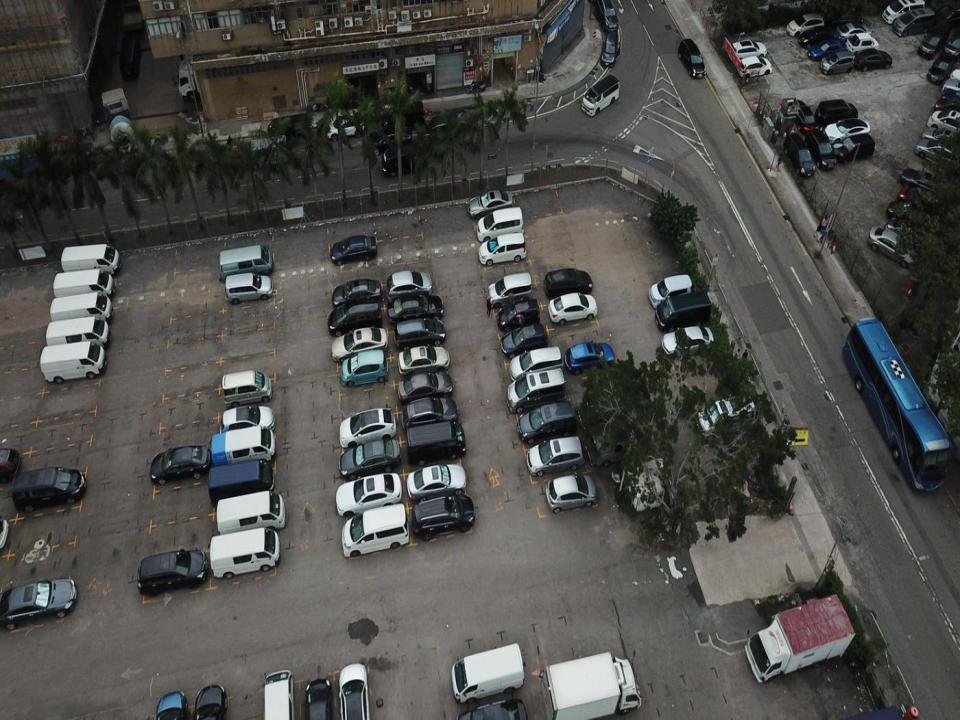bus: (842, 317, 950, 493)
car: (0, 578, 77, 633), (339, 503, 409, 559), (137, 548, 209, 598), (697, 388, 758, 442), (10, 467, 85, 510), (411, 492, 475, 540), (333, 470, 401, 514), (507, 364, 564, 414), (526, 434, 584, 482), (150, 444, 208, 490), (867, 221, 919, 272), (339, 437, 402, 478), (327, 294, 384, 338), (519, 400, 574, 444), (545, 470, 597, 514), (338, 407, 396, 445), (387, 288, 445, 326), (329, 324, 387, 361), (407, 463, 468, 498), (398, 368, 456, 403), (336, 661, 370, 719), (220, 400, 276, 435), (339, 349, 389, 387), (565, 338, 616, 375), (393, 312, 444, 349), (662, 327, 715, 362), (901, 163, 948, 202), (506, 346, 559, 380), (396, 344, 452, 376), (474, 204, 525, 239), (222, 270, 276, 303), (542, 264, 594, 298), (897, 185, 945, 221), (884, 216, 927, 256), (886, 197, 934, 232), (646, 272, 689, 311), (456, 697, 531, 719), (549, 290, 599, 323), (577, 395, 627, 428), (381, 136, 421, 177), (327, 233, 379, 264), (463, 190, 514, 221), (500, 322, 545, 357), (480, 232, 529, 264), (497, 294, 537, 332), (407, 396, 457, 426), (488, 270, 532, 304), (785, 130, 816, 178), (330, 278, 381, 307), (386, 270, 433, 301), (302, 678, 336, 719), (264, 114, 313, 141), (823, 114, 870, 142), (326, 109, 368, 140), (806, 130, 837, 172), (892, 7, 936, 36), (916, 137, 957, 168), (834, 132, 876, 162), (194, 686, 232, 719), (367, 122, 406, 154), (678, 36, 706, 80), (151, 688, 190, 719), (919, 122, 960, 150), (854, 45, 894, 73), (881, 0, 926, 24), (806, 35, 847, 61), (815, 100, 858, 124), (789, 95, 818, 130), (786, 14, 828, 38), (926, 52, 956, 85), (820, 48, 855, 75), (736, 54, 773, 78), (730, 38, 767, 62), (917, 26, 945, 57), (928, 107, 960, 133), (799, 24, 836, 46), (593, 0, 619, 31), (600, 26, 620, 66), (838, 24, 872, 44), (932, 95, 960, 119), (941, 86, 960, 107), (941, 76, 960, 96), (948, 66, 960, 82)
truck: (742, 591, 856, 684), (542, 644, 647, 719), (101, 86, 134, 158), (848, 32, 878, 52)
van: (451, 640, 525, 701), (209, 527, 282, 580), (208, 458, 274, 504), (215, 490, 286, 532), (208, 424, 275, 467), (654, 287, 715, 333), (40, 341, 105, 384), (404, 420, 467, 464), (217, 242, 273, 285), (50, 268, 115, 303), (43, 318, 111, 351), (586, 428, 638, 470), (48, 293, 112, 326), (58, 241, 120, 275), (222, 368, 272, 407), (245, 132, 289, 176), (261, 667, 297, 719), (580, 73, 621, 116), (422, 117, 454, 143)
